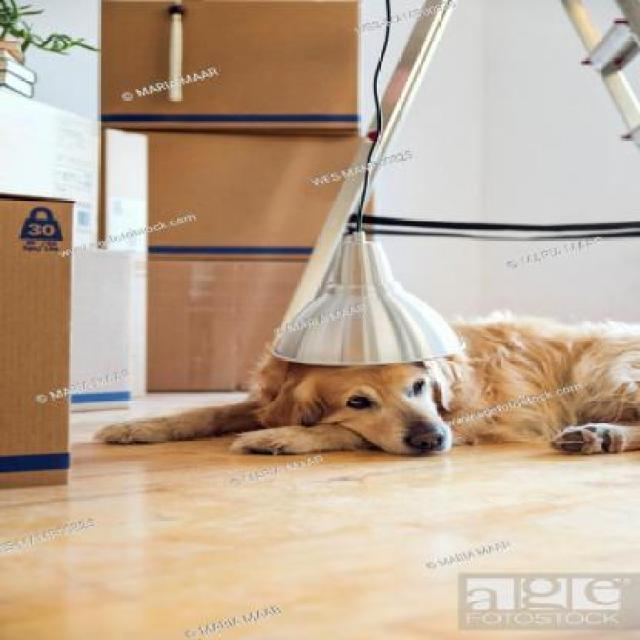box: (94, 119, 382, 265), (95, 0, 369, 141), (145, 256, 319, 393), (0, 189, 75, 492), (68, 249, 134, 415)
